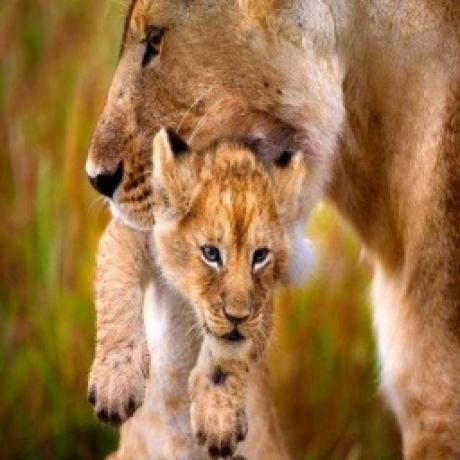Lion: (84, 0, 460, 460), (79, 126, 303, 460)
